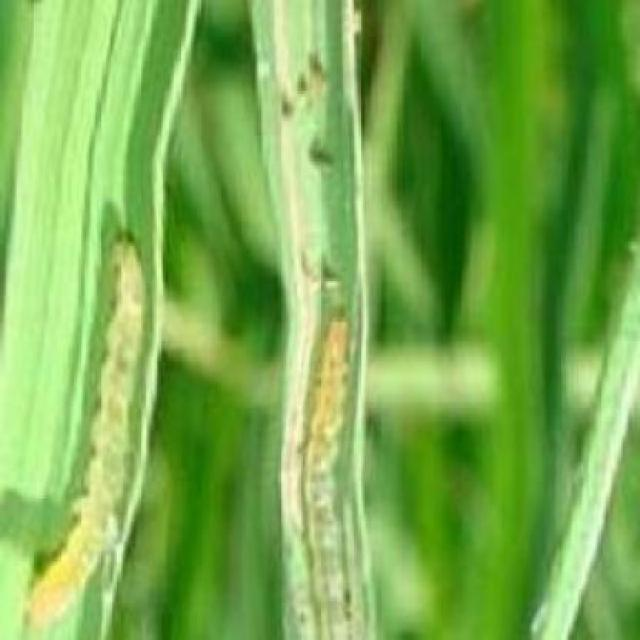leaf-folder: (19, 218, 161, 640), (268, 278, 397, 640)
